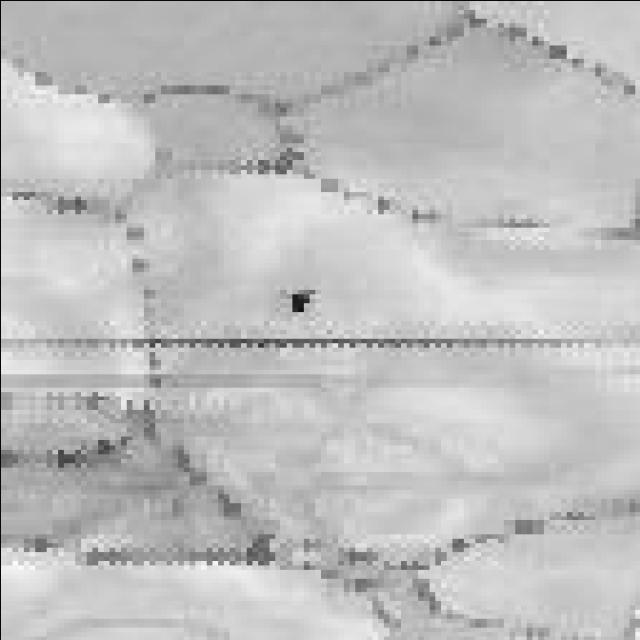good_void: (281, 286, 317, 316)
